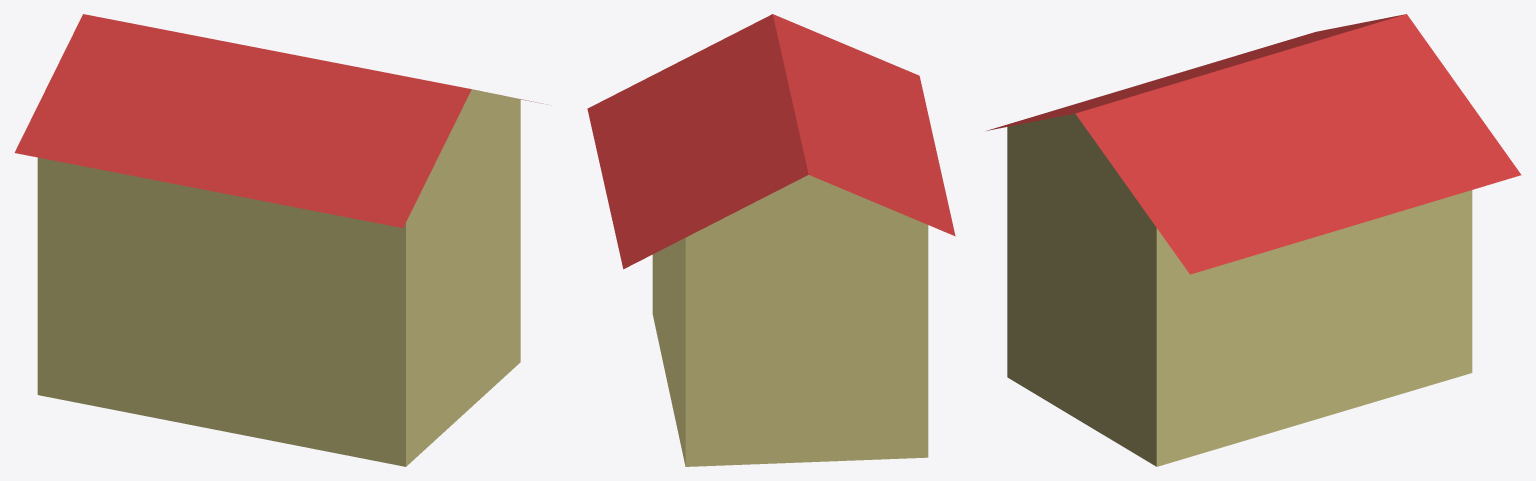
The picture shows the model from 3 angles, left to right: view 1: azimuth 30°, elevation 25°; view 2: azimuth 150°, elevation 25°; view 3: azimuth 270°, elevation 25°; orthographic projection. The views are drawn at different scales.
Size of the model in its own units: 16.15 by 16.53 by 10.56.
